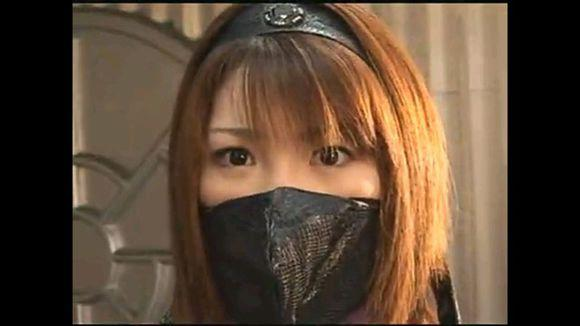OK: (193, 119, 379, 316)
